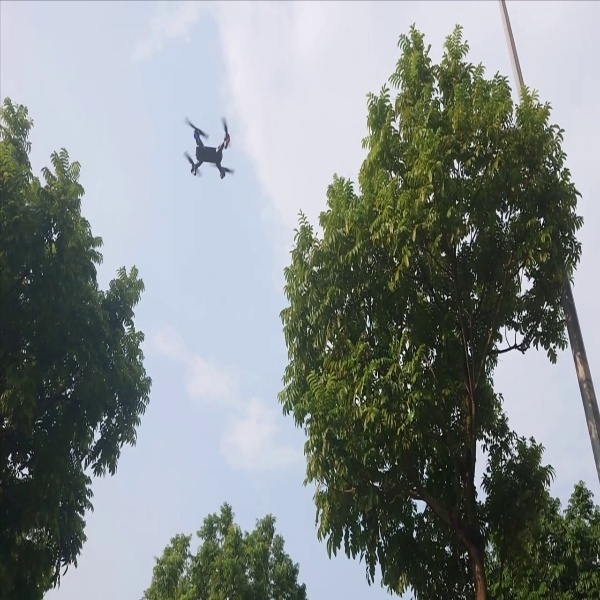drone: (177, 106, 242, 185)
